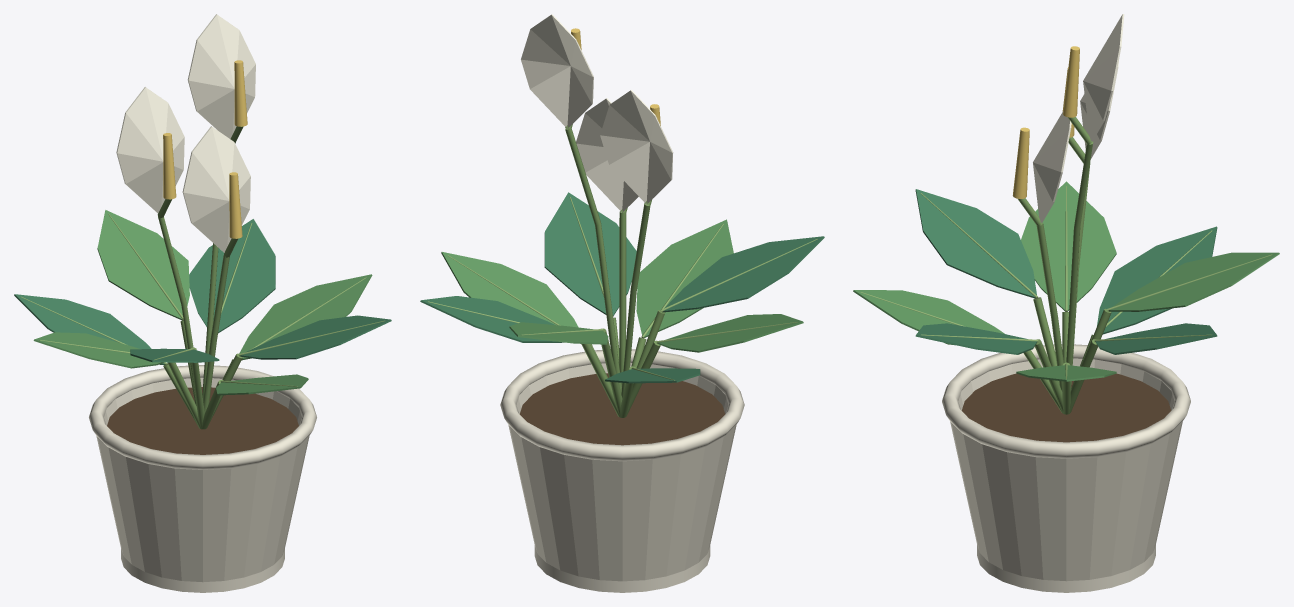
The model's file is houseplant_peace_lily.glb.
The picture shows the model from 3 angles, left to right: view 1: azimuth 30°, elevation 25°; view 2: azimuth 150°, elevation 25°; view 3: azimuth 270°, elevation 25°; orthographic projection. The views are drawn at different scales.
Parts seen in each view (by area): view 1: Peace_Lily_Open_Pot, Peace_Lily_Visible_Soil, Peace_Lily_Pot_Rim, Peace_Lily_Broad_Leaf_2, Peace_Lily_Flower_0_White_Spathe, Peace_Lily_Flower_2_White_Spathe, Peace_Lily_Flower_1_White_Spathe, Peace_Lily_Broad_Leaf_1, Peace_Lily_Broad_Leaf_0, Peace_Lily_Broad_Leaf_7, Peace_Lily_Broad_Leaf_3, Peace_Lily_Broad_Leaf_4 (+10 smaller); view 2: Peace_Lily_Open_Pot, Peace_Lily_Visible_Soil, Peace_Lily_Pot_Rim, Peace_Lily_Broad_Leaf_7, Peace_Lily_Flower_0_White_Spathe, Peace_Lily_Flower_1_White_Spathe, Peace_Lily_Broad_Leaf_5, Peace_Lily_Broad_Leaf_6, Peace_Lily_Broad_Leaf_0, Peace_Lily_Flower_2_White_Spathe, Peace_Lily_Broad_Leaf_4, Peace_Lily_Broad_Leaf_1 (+8 smaller); view 3: Peace_Lily_Open_Pot, Peace_Lily_Visible_Soil, Peace_Lily_Pot_Rim, Peace_Lily_Broad_Leaf_5, Peace_Lily_Broad_Leaf_4, Peace_Lily_Broad_Leaf_2, Peace_Lily_Broad_Leaf_3, Peace_Lily_Broad_Leaf_6, Peace_Lily_Flower_1_White_Spathe, Peace_Lily_Flower_2_White_Spathe, Peace_Lily_Pot_Floor, Peace_Lily_Broad_Leaf_1 (+8 smaller).
Boxes of the visible parts, x1,y1,x2,y2 form: Peace_Lily_Open_Pot: (96, 377, 309, 582); Peace_Lily_Visible_Soil: (107, 387, 298, 454); Peace_Lily_Pot_Rim: (89, 365, 316, 469); Peace_Lily_Broad_Leaf_2: (97, 210, 189, 320); Peace_Lily_Flower_0_White_Spathe: (116, 87, 184, 213); Peace_Lily_Flower_2_White_Spathe: (182, 126, 250, 252); Peace_Lily_Flower_1_White_Spathe: (187, 14, 255, 138); Peace_Lily_Broad_Leaf_1: (189, 219, 275, 333); Peace_Lily_Broad_Leaf_0: (239, 274, 372, 360); Peace_Lily_Broad_Leaf_7: (240, 315, 391, 359); Peace_Lily_Broad_Leaf_3: (14, 294, 165, 365); Peace_Lily_Broad_Leaf_4: (33, 332, 164, 368); Peace_Lily_Open_Pot: (508, 362, 736, 581); Peace_Lily_Visible_Soil: (519, 373, 725, 445); Peace_Lily_Pot_Rim: (500, 349, 744, 461); Peace_Lily_Broad_Leaf_7: (544, 192, 636, 316); Peace_Lily_Flower_0_White_Spathe: (600, 90, 673, 204); Peace_Lily_Flower_1_White_Spathe: (521, 14, 593, 128); Peace_Lily_Broad_Leaf_5: (662, 236, 824, 312); Peace_Lily_Broad_Leaf_6: (636, 219, 733, 337); Peace_Lily_Broad_Leaf_0: (441, 252, 580, 343); Peace_Lily_Flower_2_White_Spathe: (576, 98, 638, 212); Peace_Lily_Broad_Leaf_4: (658, 314, 803, 352); Peace_Lily_Broad_Leaf_1: (420, 296, 563, 342); Peace_Lily_Open_Pot: (950, 358, 1182, 581); Peace_Lily_Visible_Soil: (961, 373, 1171, 442); Peace_Lily_Pot_Rim: (942, 344, 1190, 458); Peace_Lily_Broad_Leaf_5: (915, 189, 1036, 298); Peace_Lily_Broad_Leaf_4: (1021, 181, 1116, 311); Peace_Lily_Broad_Leaf_2: (1109, 252, 1279, 311); Peace_Lily_Broad_Leaf_3: (1097, 226, 1217, 334); Peace_Lily_Broad_Leaf_6: (853, 290, 1004, 345); Peace_Lily_Flower_1_White_Spathe: (1083, 14, 1124, 141); Peace_Lily_Flower_2_White_Spathe: (1033, 111, 1071, 222); Peace_Lily_Pot_Floor: (977, 544, 1155, 592); Peace_Lily_Broad_Leaf_1: (1095, 323, 1217, 354).
Size of the model in its own units: 0.7225 by 1.05 by 0.7225.
